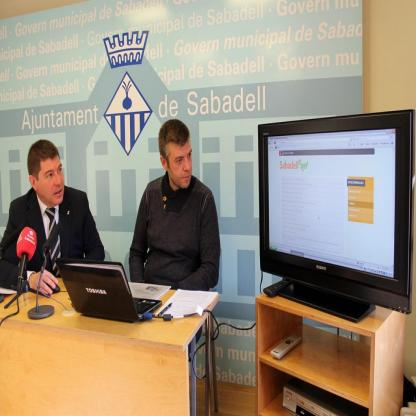board: (47, 250, 155, 324)
